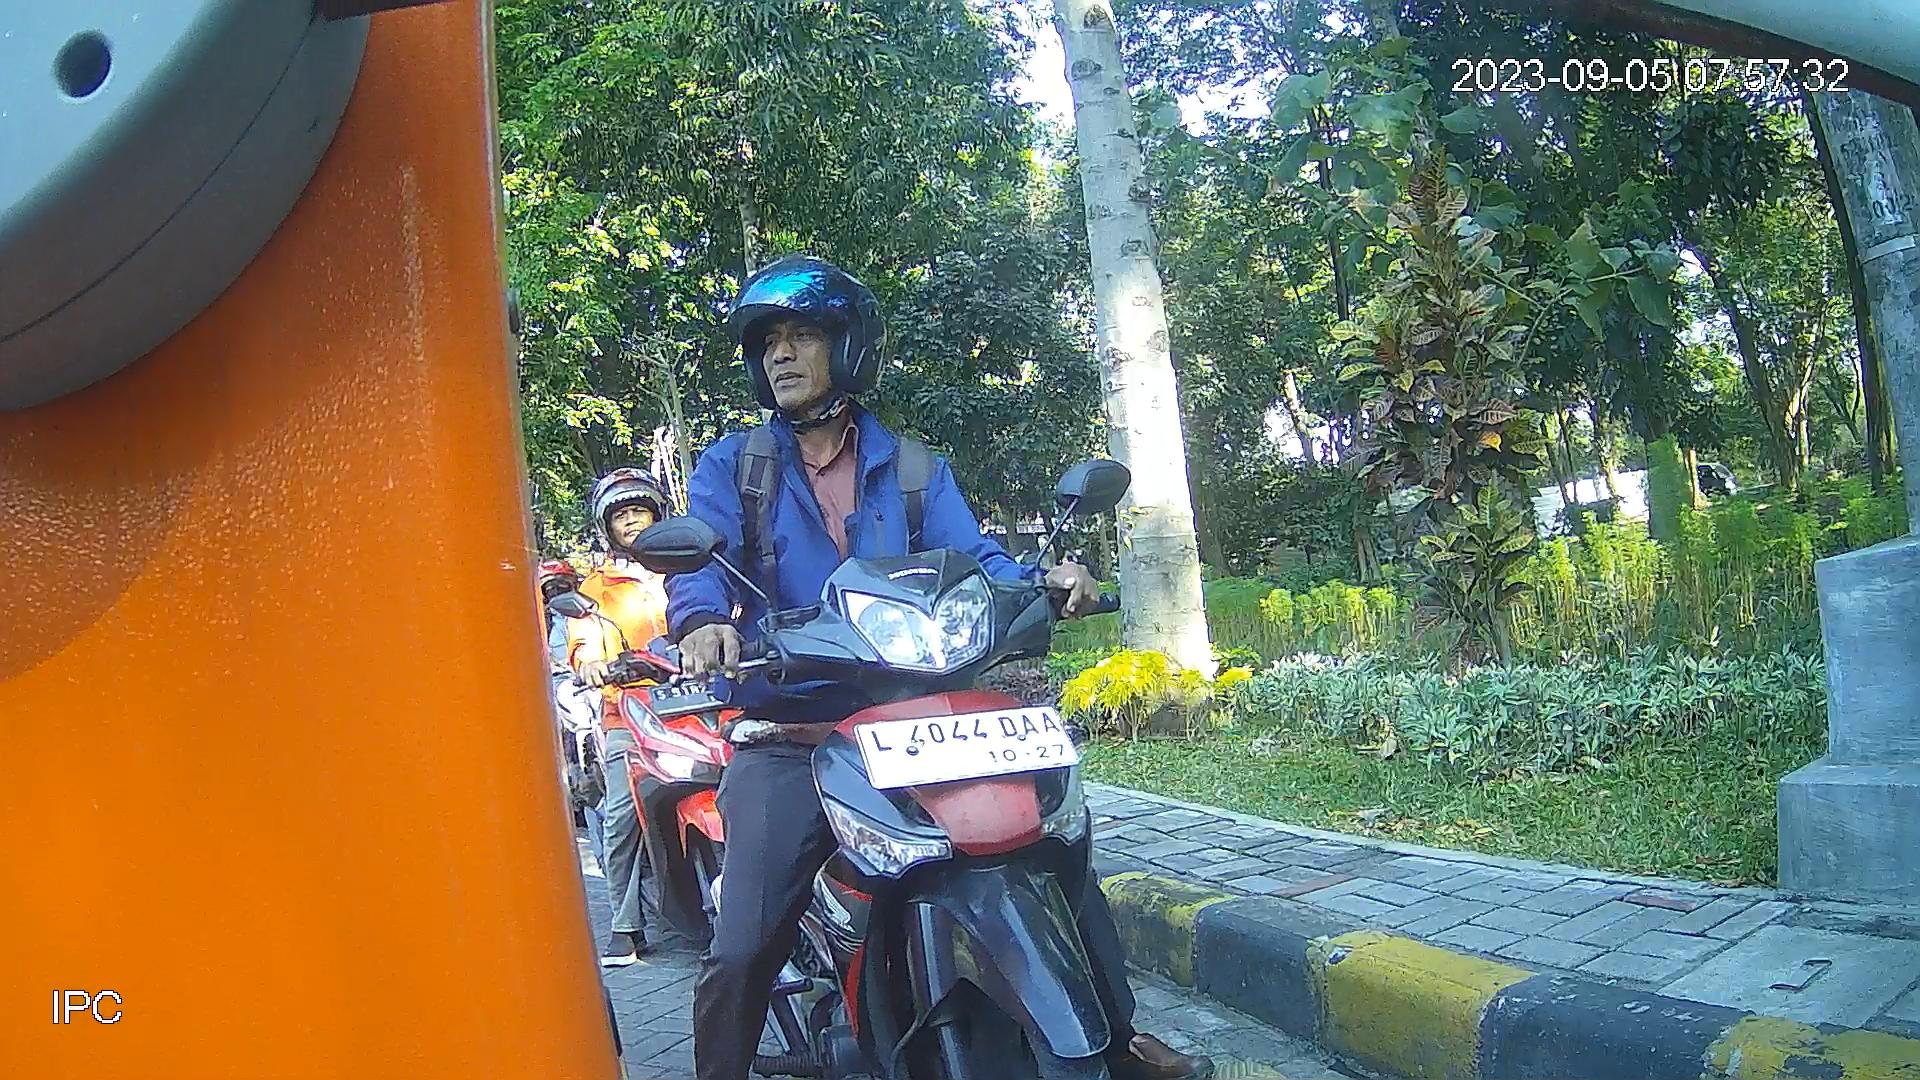plat: (852, 703, 1085, 789)
